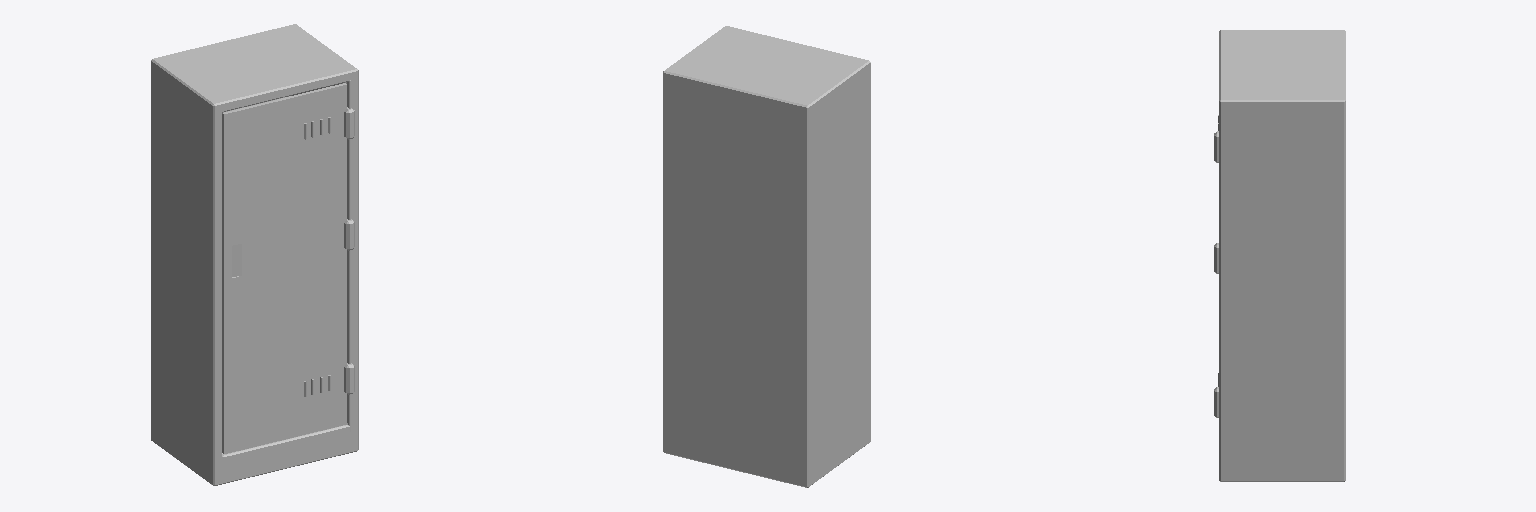
The model's file is cleaningToolStorage.obj.
3 views of the same model, side by side, from view 1: azimuth 30°, elevation 25°; view 2: azimuth 150°, elevation 25°; view 3: azimuth 270°, elevation 25° (orthographic).
Parts seen in each view (by area): view 1: cleaningToolStorage.001; view 2: cleaningToolStorage.001; view 3: cleaningToolStorage.001.
Boxes of the visible parts, x1=… form: cleaningToolStorage.001: x1=151, y1=24, x2=358, y2=485; cleaningToolStorage.001: x1=663, y1=26, x2=870, y2=487; cleaningToolStorage.001: x1=1214, y1=30, x2=1345, y2=481.
Size of the model in its own units: 4 by 10 by 3.11.